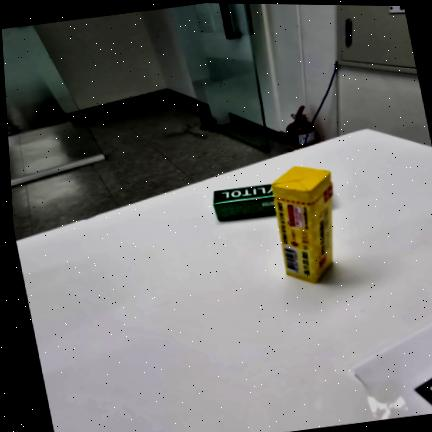gum_green: (213, 184, 275, 220)
gum_yellow: (271, 166, 332, 283)
